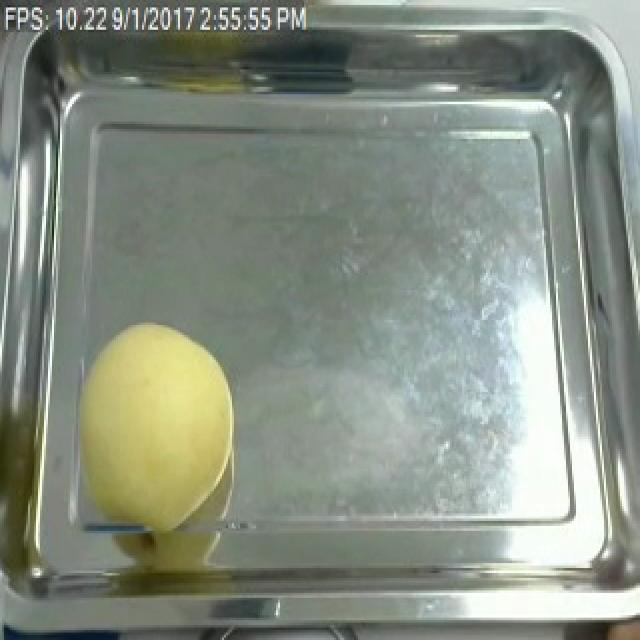Fruit: (46, 310, 250, 548)
